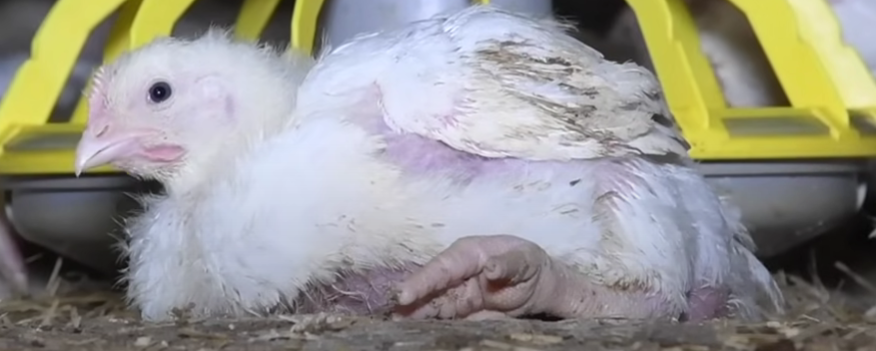Unhealthy: (63, 11, 800, 333)
